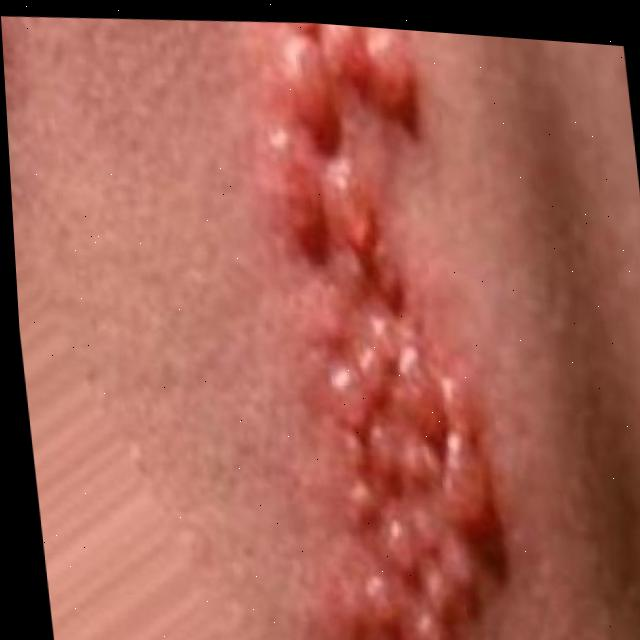Shingles: (278, 21, 515, 640)
